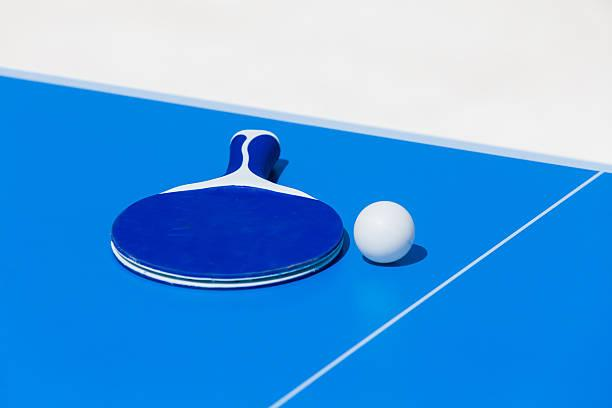ball_pingpong: (352, 200, 418, 269)
